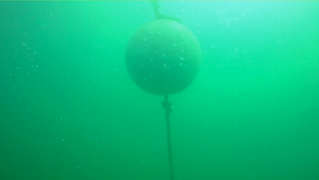buoy: (124, 18, 202, 95)
